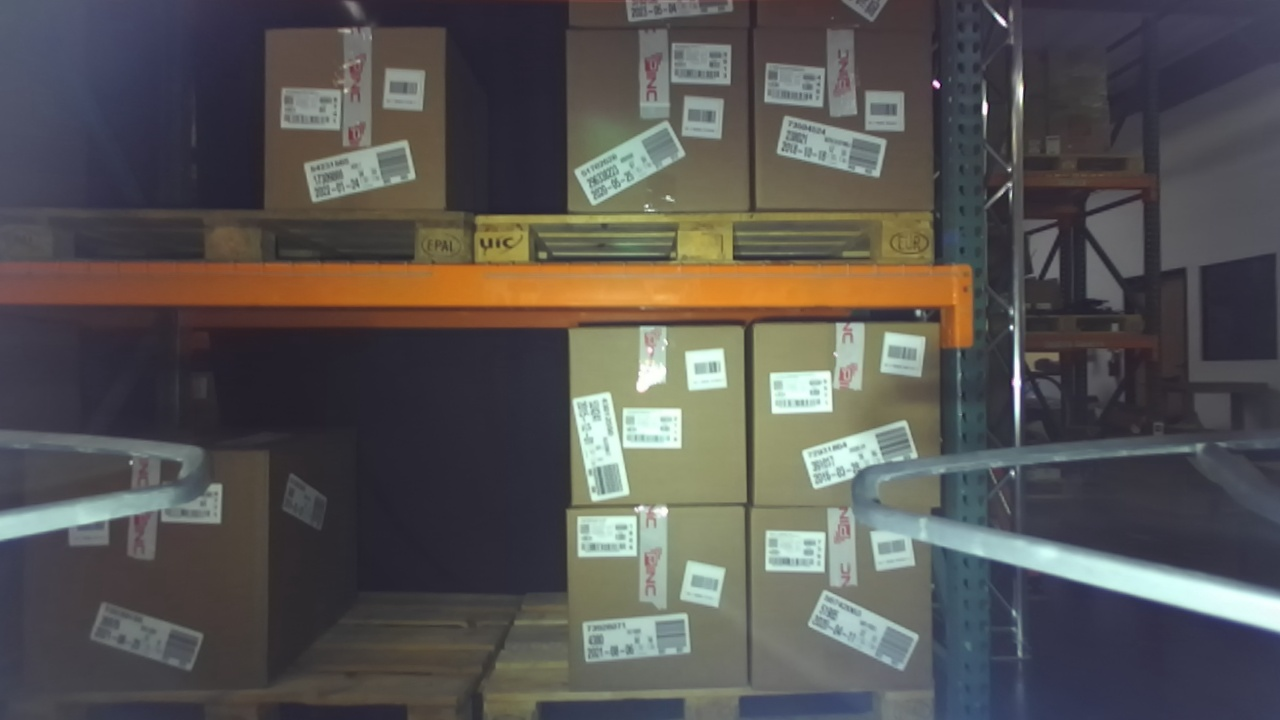box: (1, 430, 296, 704), (716, 297, 968, 528), (728, 3, 959, 231), (712, 489, 952, 707), (242, 18, 480, 233), (543, 13, 767, 233), (543, 310, 772, 522), (548, 495, 765, 710)
